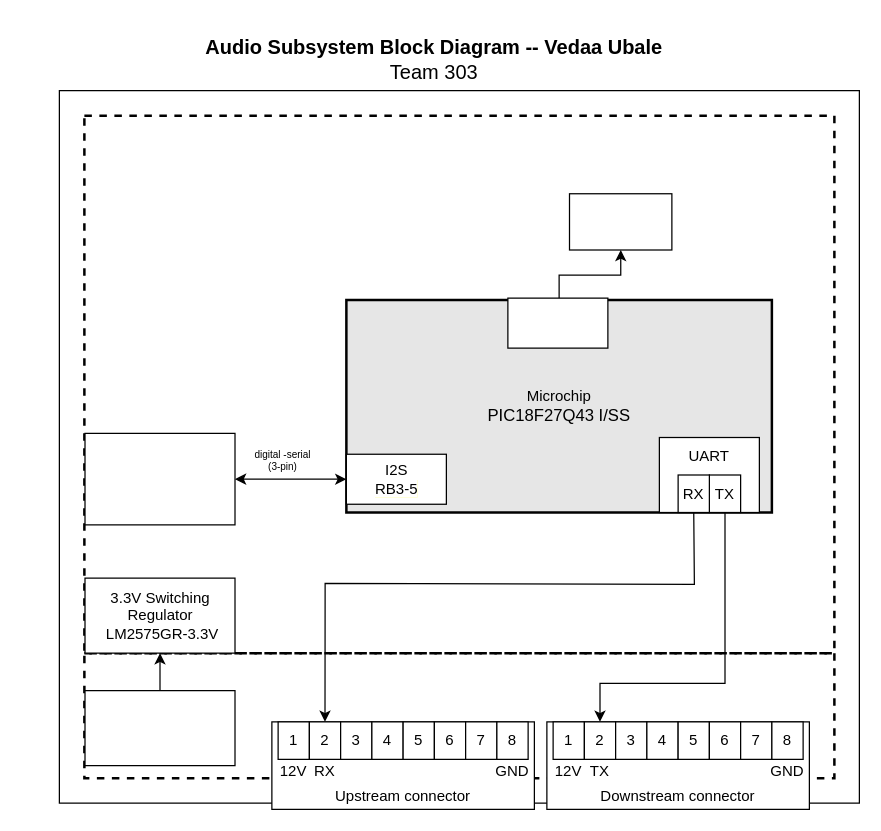
The diagram is 881 pixels wide and 831 high, and some of its shapes have lost their labels. Each missing label, with the box of its shape:
Barrel Jack Adapter: (84, 689, 235, 766)
Debug LED: (568, 192, 672, 250)
DO RC4: (507, 297, 608, 348)
Microphone ICS-43434 TDK InvenSense: (84, 432, 235, 525)
